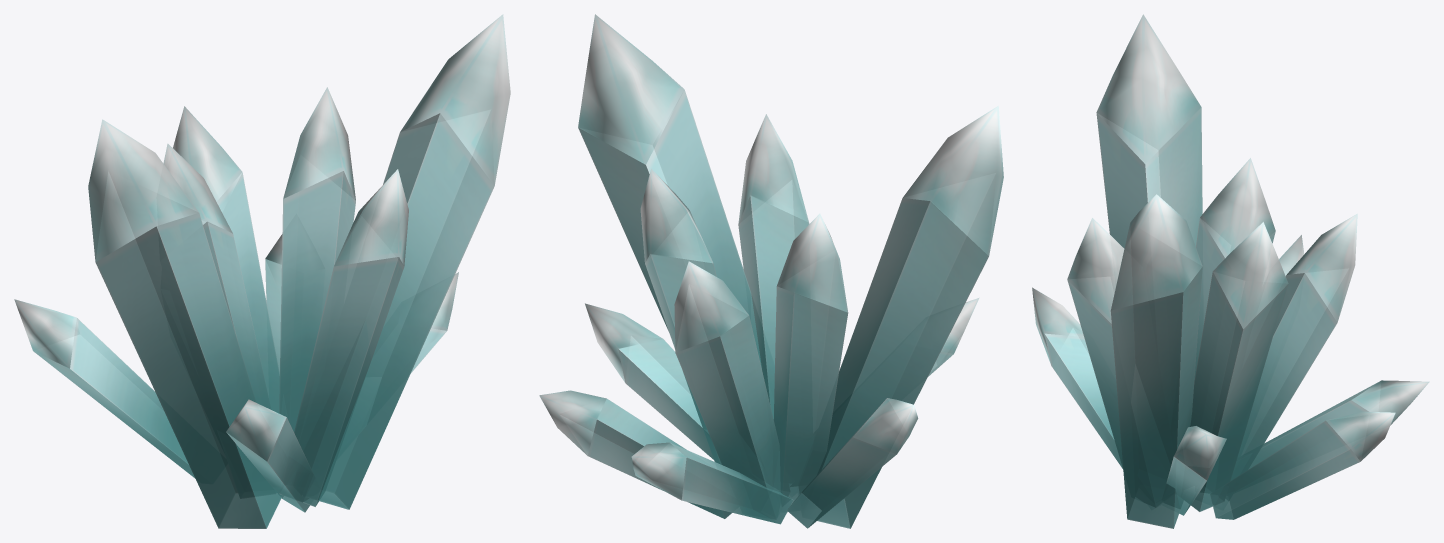
The model's file is Crystal_ver.2.fbx.
3 views of the same model, side by side, from view 1: azimuth 30°, elevation 25°; view 2: azimuth 150°, elevation 25°; view 3: azimuth 270°, elevation 25° (orthographic). The views are drawn at different scales.
Visible parts, largest first — view 1: Crystal11; view 2: Crystal11; view 3: Crystal11.
Boxes of the visible parts, <box> form: Crystal11: <box>14,14,510,528</box>; Crystal11: <box>539,14,1003,528</box>; Crystal11: <box>1032,14,1429,528</box>.
Bounding box in the file's own units: 121 × 125 × 109.
